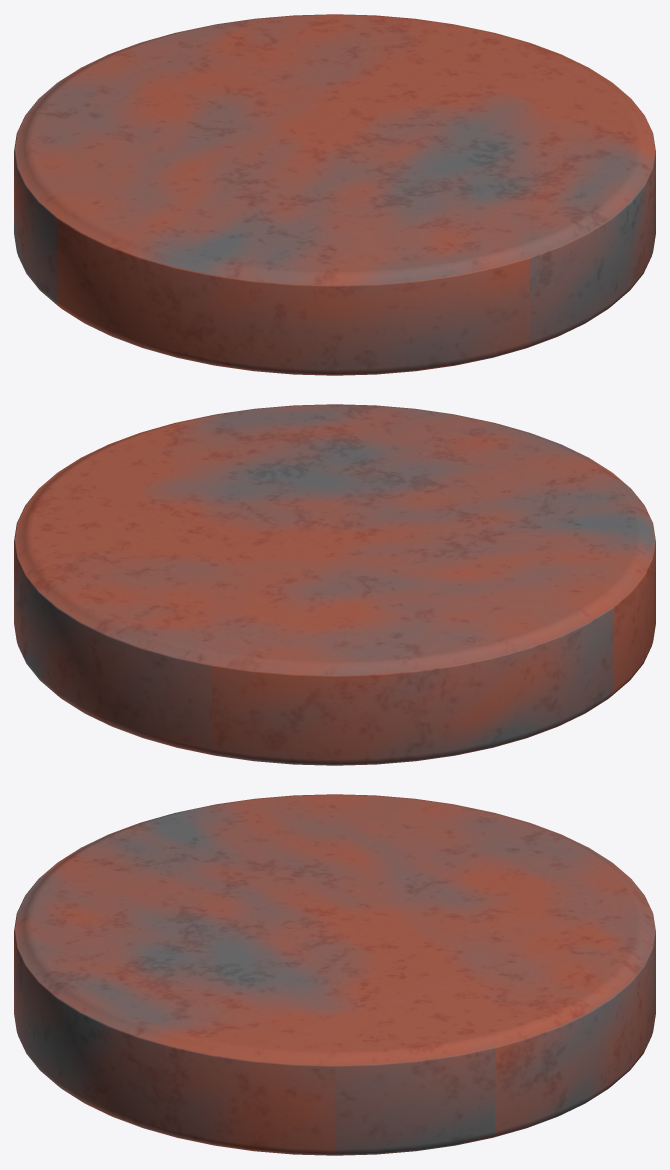
Rendered from circle-_stepping-charcoal_red.glb.
3 views of the same model, one above another, from view 1: azimuth 30°, elevation 25°; view 2: azimuth 150°, elevation 25°; view 3: azimuth 270°, elevation 25° (orthographic).
Visible parts, largest first — view 1: Circle Stepping Stone; view 2: Circle Stepping Stone; view 3: Circle Stepping Stone.
Boxes of the visible parts, left/top/right/bottom form: Circle Stepping Stone: left=14, top=14, right=655, bottom=375; Circle Stepping Stone: left=14, top=404, right=655, bottom=765; Circle Stepping Stone: left=14, top=794, right=655, bottom=1155.
Size of the model in its own units: 0.2953 by 0.0508 by 0.2953.
Materials: 1 (1 with a texture image).
